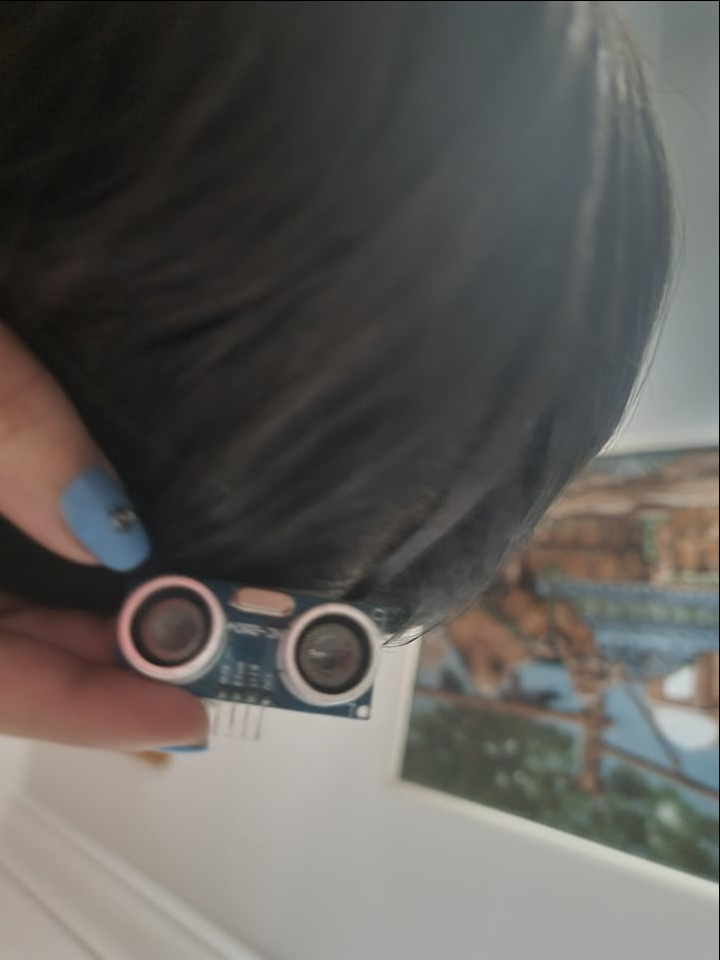SENSOR: (106, 567, 382, 716)
